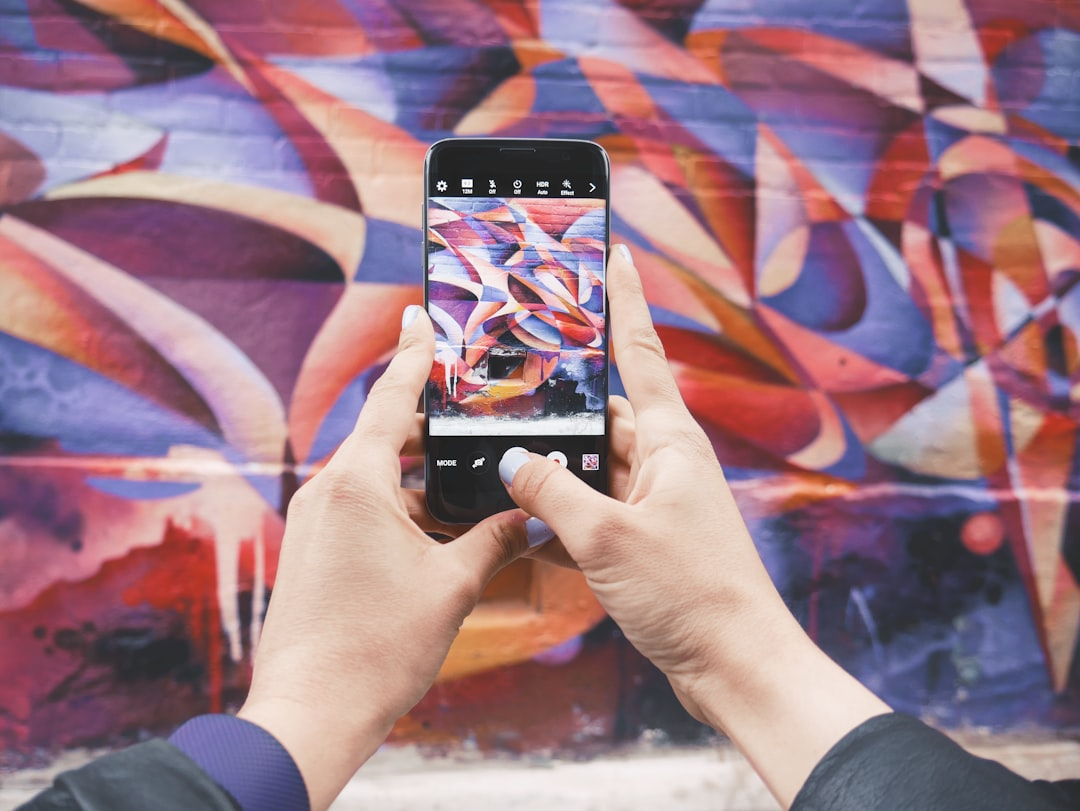phone: (421, 137, 611, 528)
